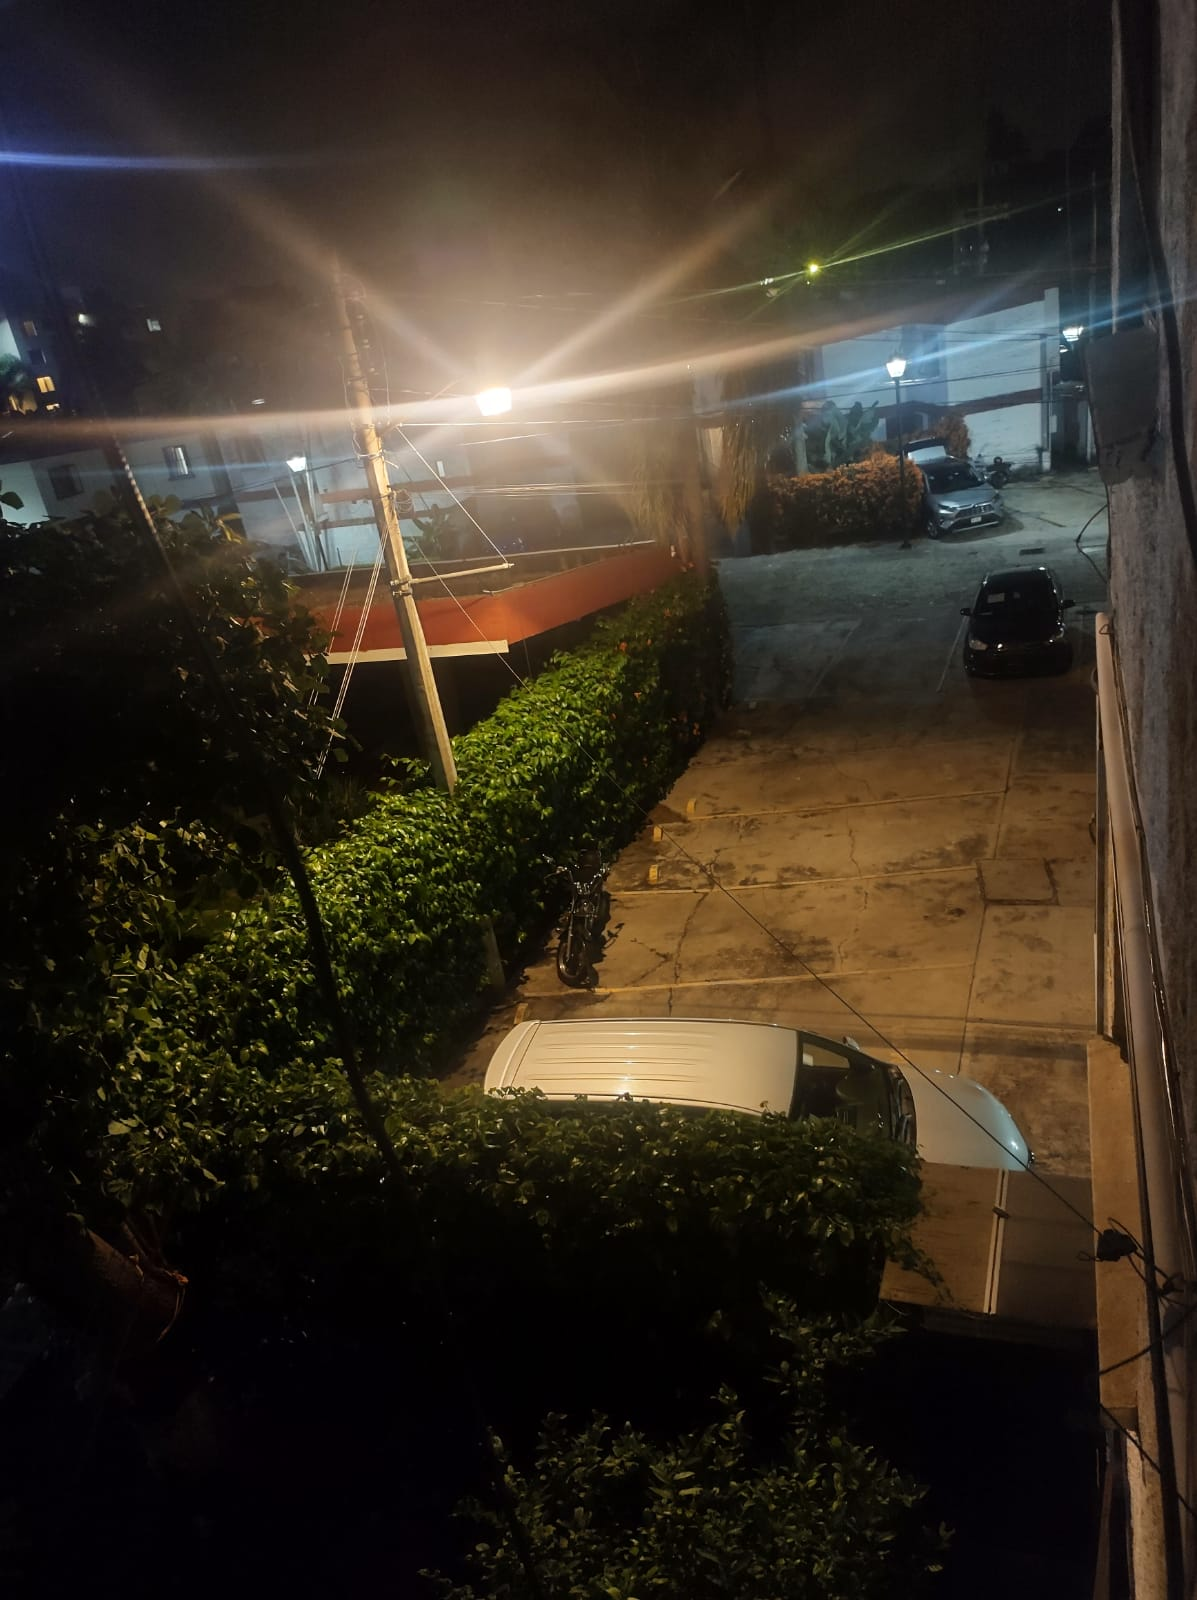Auto: (477, 1021, 1031, 1188), (963, 563, 1071, 688), (920, 460, 1005, 545)
